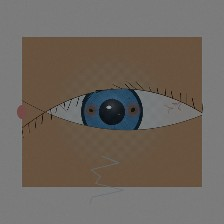foreign_body_visible: (80, 102, 102, 119)
